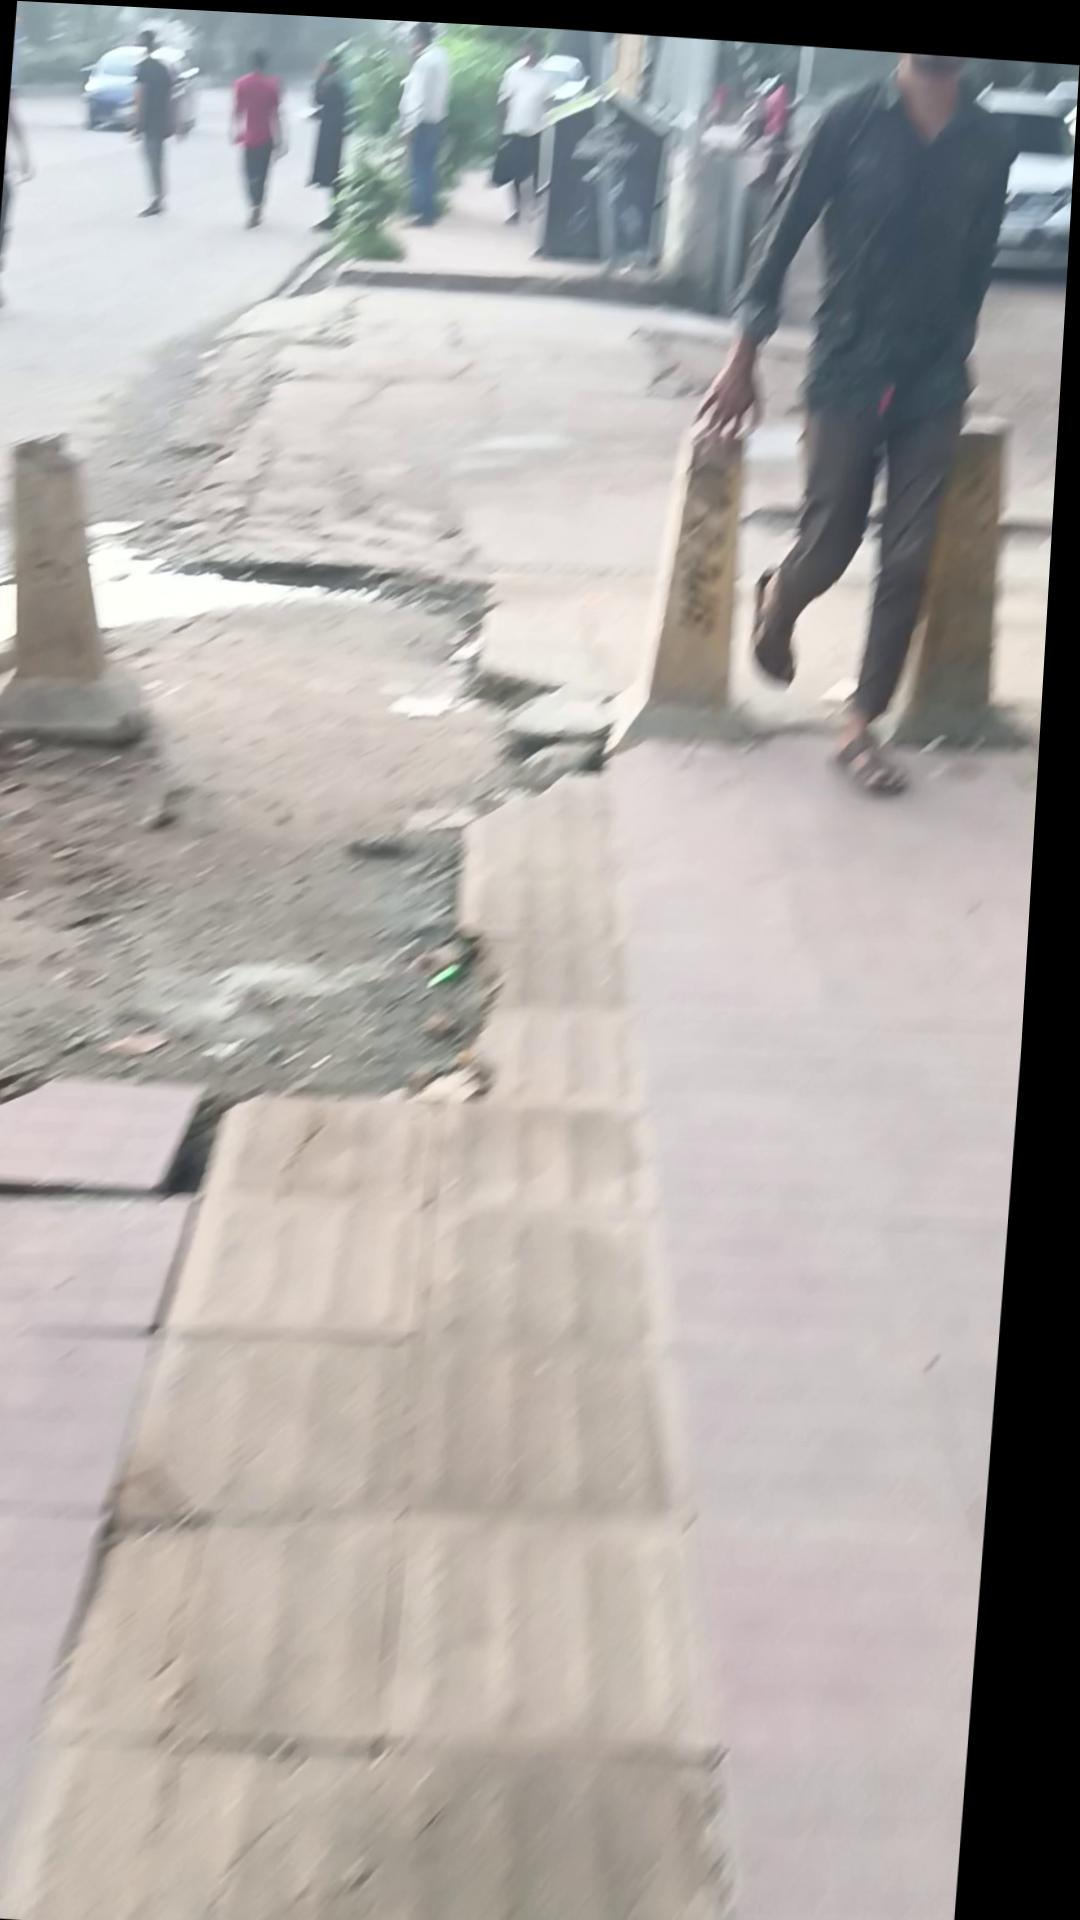Car: (76, 40, 204, 136)
Muddy road: (674, 32, 1026, 791), (487, 24, 560, 220), (389, 16, 458, 224), (222, 44, 294, 227), (123, 26, 185, 218), (299, 49, 359, 229), (0, 86, 41, 311)
Potted-plant: (0, 88, 1076, 1920)
Rickshaw: (0, 425, 177, 749), (650, 401, 758, 704)
